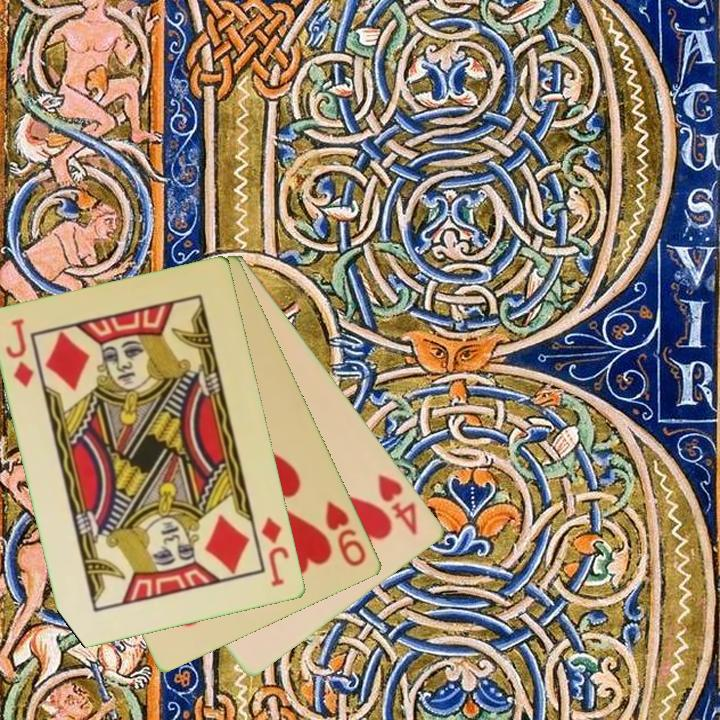4h: (374, 471, 421, 539)
9h: (322, 498, 370, 570)
Jd: (258, 514, 293, 590), (3, 315, 37, 391)
